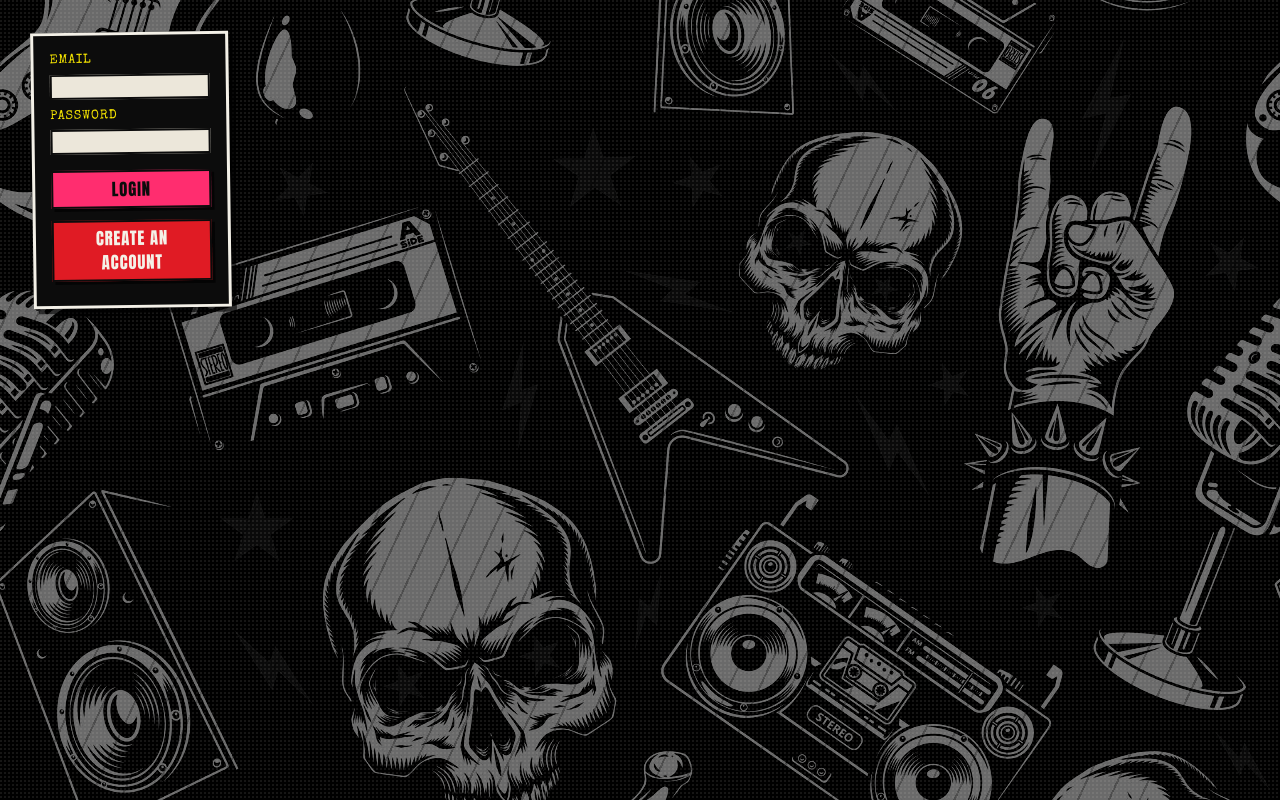
LoginPanel, logged out › shows the server's own words when the credentials are refused
The width and height of the screenshot is (1280, 800).
Type "joey@ramones.com" into the field labelled "Email". click: (130, 86)
box: [50,72,210,100]
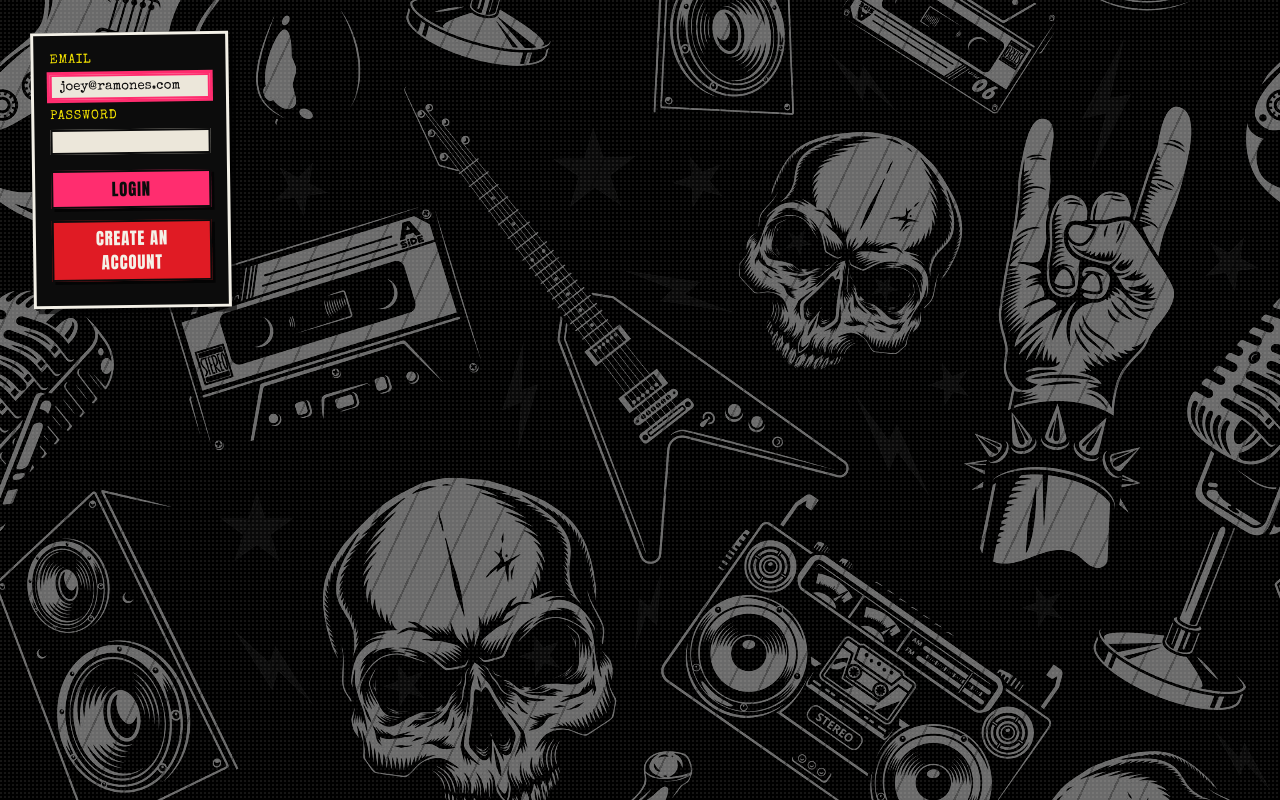
Type "wrong" into the password field labelled "Password". click: (131, 142)
box: [50,128,211,155]
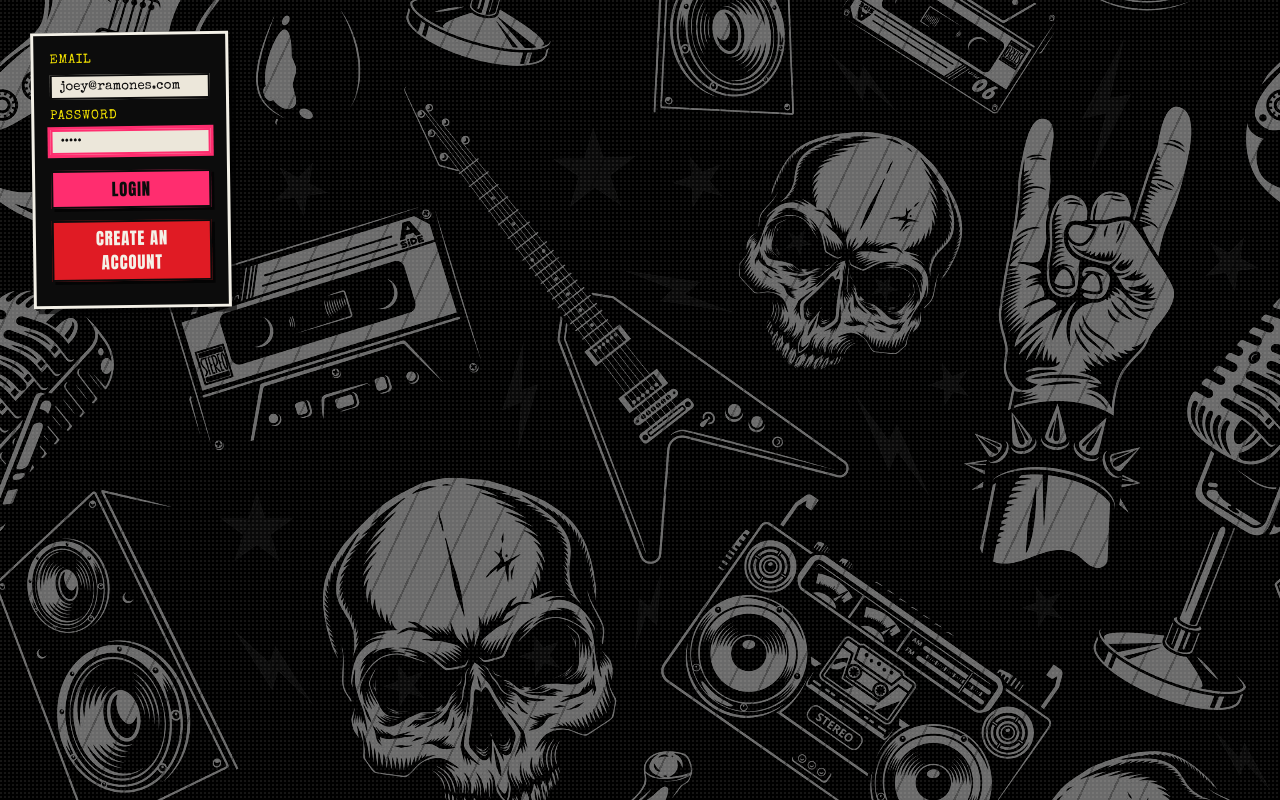
Click the button "Login". click: (131, 189)
box: [51,169,212,209]
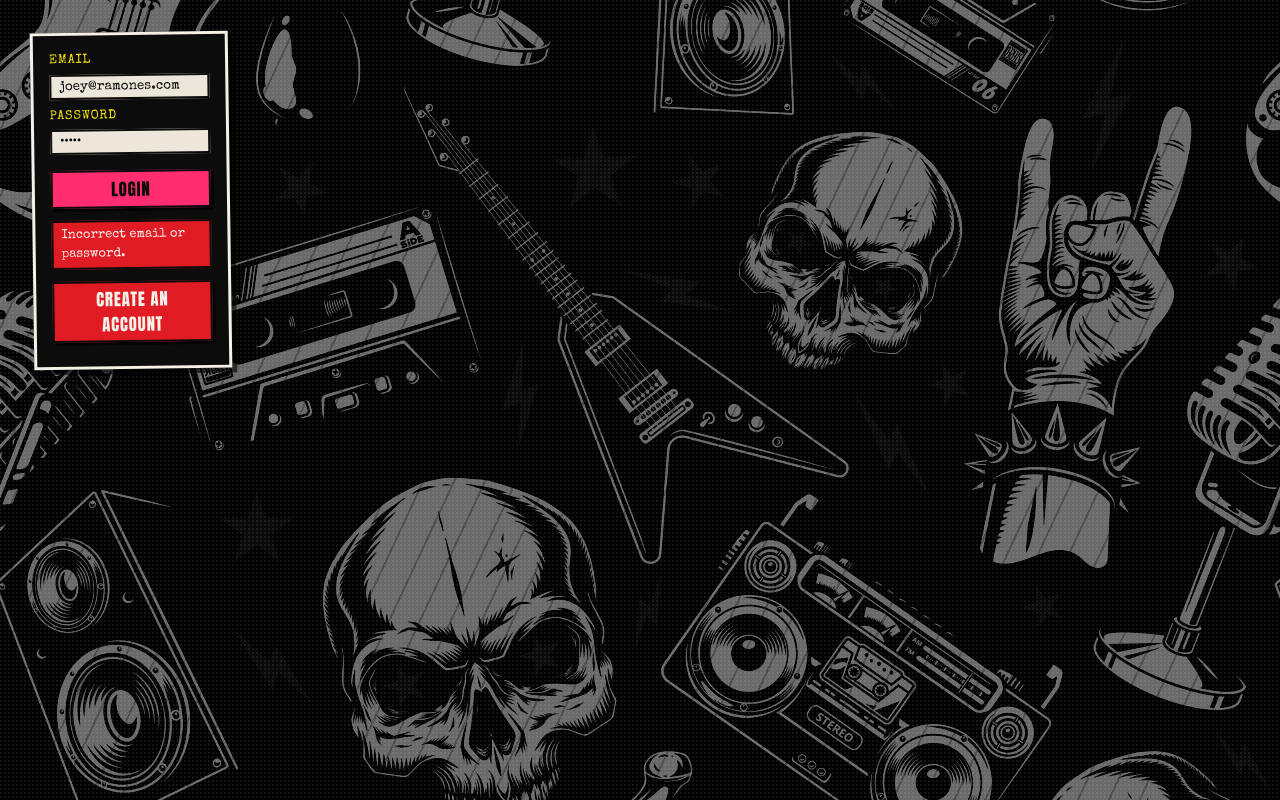
Expected: the message shows "Incorrect", [61,227,185,261]
